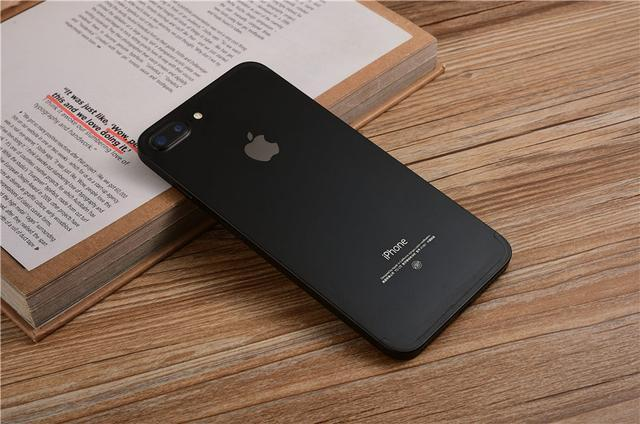phone: (143, 69, 511, 339)
